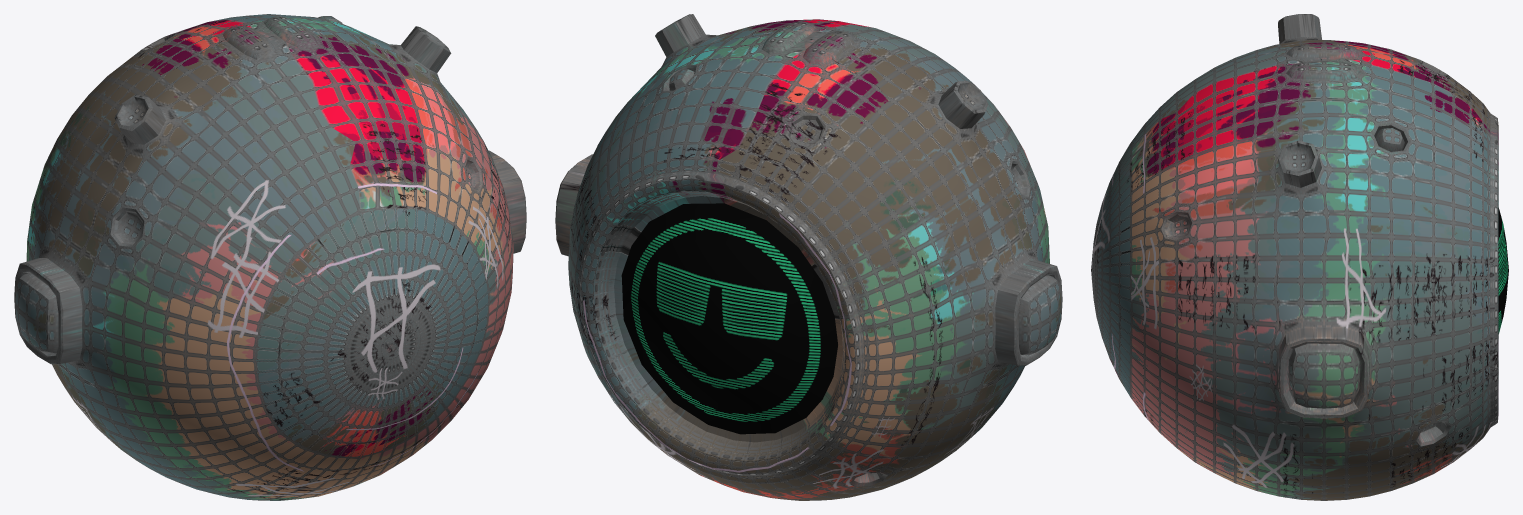
Rendered from avatar_signal.glb.
The picture shows the model from 3 angles, left to right: view 1: azimuth 30°, elevation 25°; view 2: azimuth 150°, elevation 25°; view 3: azimuth 270°, elevation 25°; orthographic projection. The views are drawn at different scales.
Parts seen in each view (by area): view 1: Sphere.001; view 2: Sphere.001; view 3: Sphere.001.
Boxes of the visible parts, box(x1,y1,x2,y2) form: Sphere.001: box(14, 14, 526, 500); Sphere.001: box(555, 14, 1062, 500); Sphere.001: box(1091, 14, 1508, 500).
Size of the model in its own units: 2.29 by 2 by 1.79.
1 material, 1 textured.
